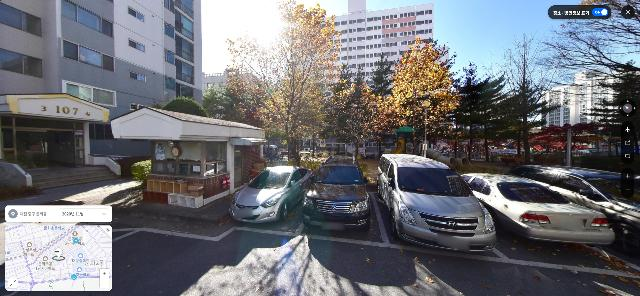ginkgo: (220, 0, 342, 171), (369, 39, 461, 152)
other: (493, 23, 564, 166), (323, 51, 394, 160), (446, 62, 509, 165)
